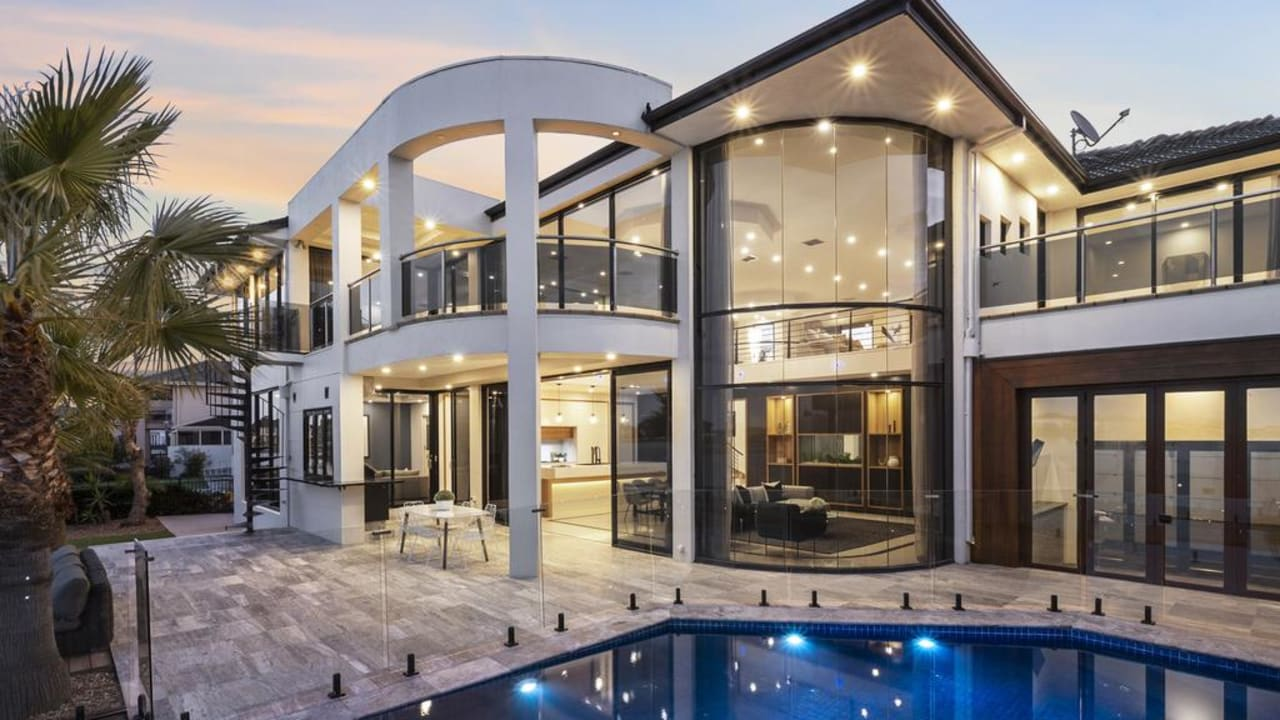Window: (691, 113, 955, 570), (1019, 388, 1280, 588), (610, 369, 676, 555), (363, 388, 439, 507), (303, 407, 336, 480)
